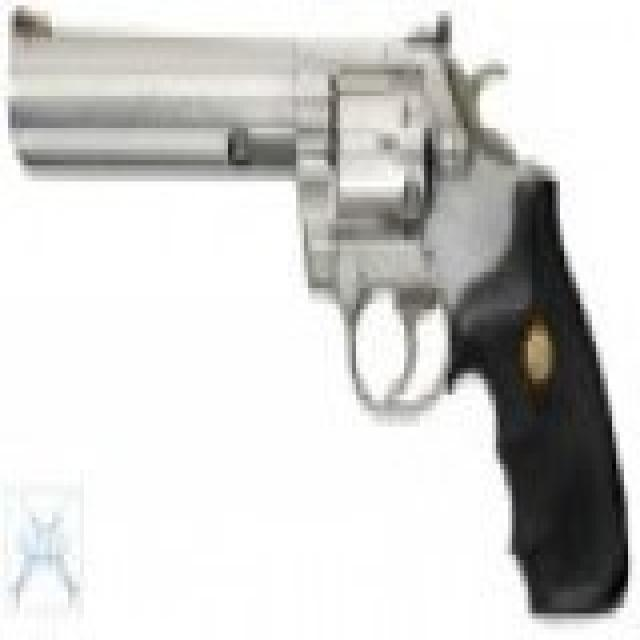Gun: (10, 3, 623, 610)
